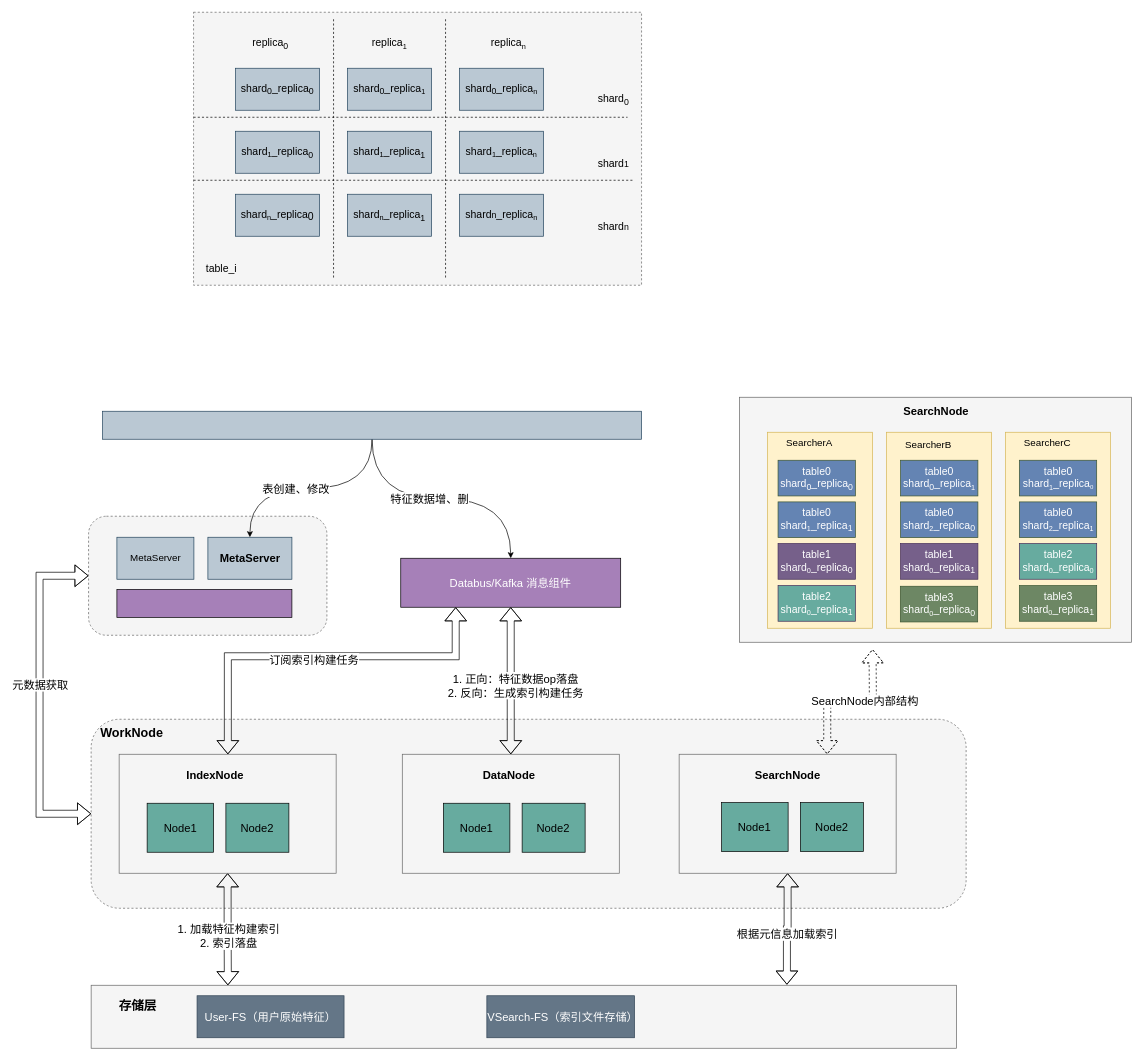
Image size: 1144x1061. Some labels were removed from this diagram. The centre of each missing label's shape, as x and y in pixels:
"Etcd组件" goes at point (204, 603).
"Proxy接入层/GRPC" goes at point (372, 425).
